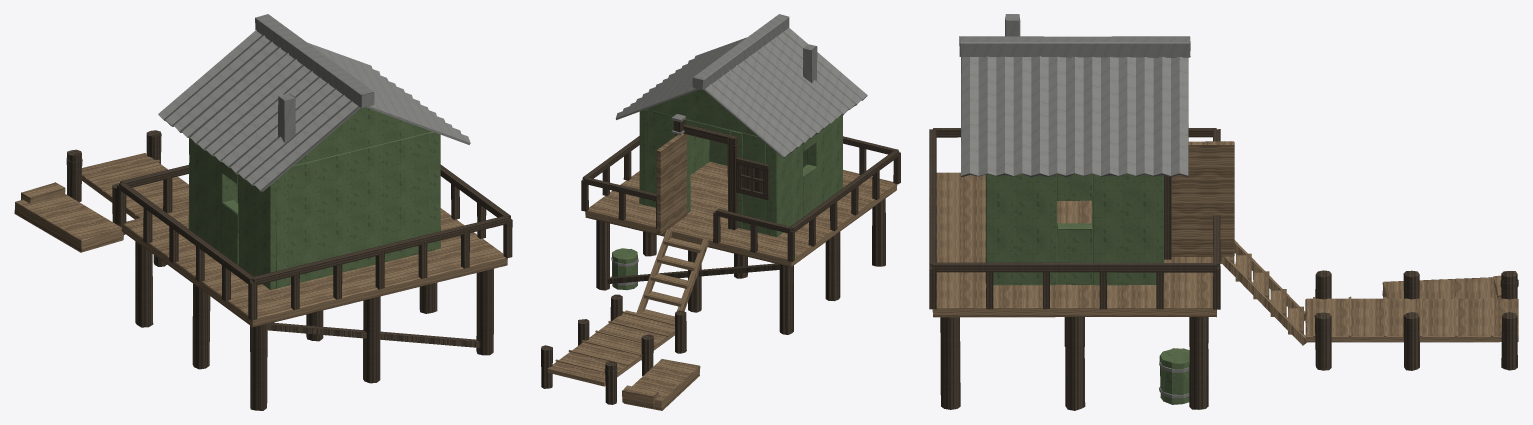
The model's file is swamp_stilt_house.glb.
3 views of the same model, side by side, from view 1: azimuth 30°, elevation 25°; view 2: azimuth 150°, elevation 25°; view 3: azimuth 270°, elevation 25° (orthographic). The views are drawn at different scales.
Parts seen in each view (by area): view 1: SwampStiltHouse; view 2: SwampStiltHouse; view 3: SwampStiltHouse.
Part boxes in pixels (<box>): SwampStiltHouse: <box>14,14,512,410</box>; SwampStiltHouse: <box>541,14,900,410</box>; SwampStiltHouse: <box>929,14,1518,410</box>.
Size of the model in its own units: 5.16 by 5.37 by 9.3.
4 materials, 4 textured.
